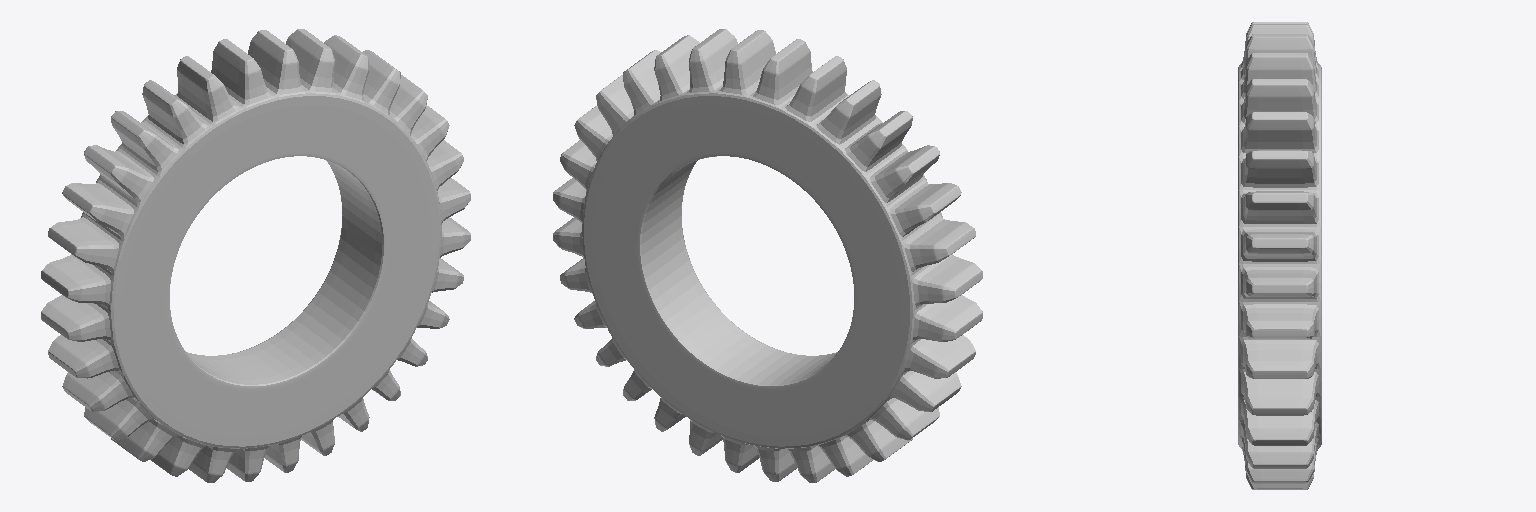
The model's file is gear7.obj.
3 renders of one model, left to right at view 1: azimuth 30°, elevation 25°; view 2: azimuth 150°, elevation 25°; view 3: azimuth 270°, elevation 25°, orthographic.
Parts seen in each view (by area): view 1: Cylinder.019_Cylinder.034; view 2: Cylinder.019_Cylinder.034; view 3: Cylinder.019_Cylinder.034.
Boxes of the visible parts, x1,y1,x2,y2 form: Cylinder.019_Cylinder.034: [41, 29, 470, 482]; Cylinder.019_Cylinder.034: [553, 29, 982, 482]; Cylinder.019_Cylinder.034: [1238, 22, 1321, 489].
Size of the model in its own units: 2.43 by 2.43 by 0.437.